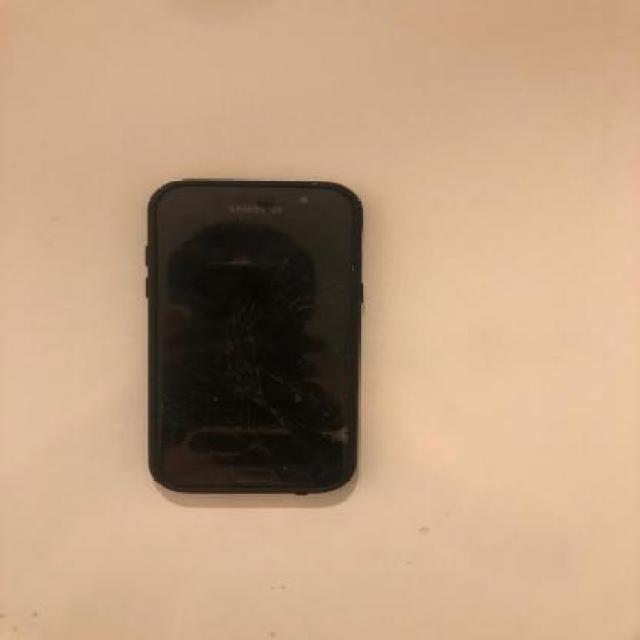phone: (152, 179, 368, 496)
